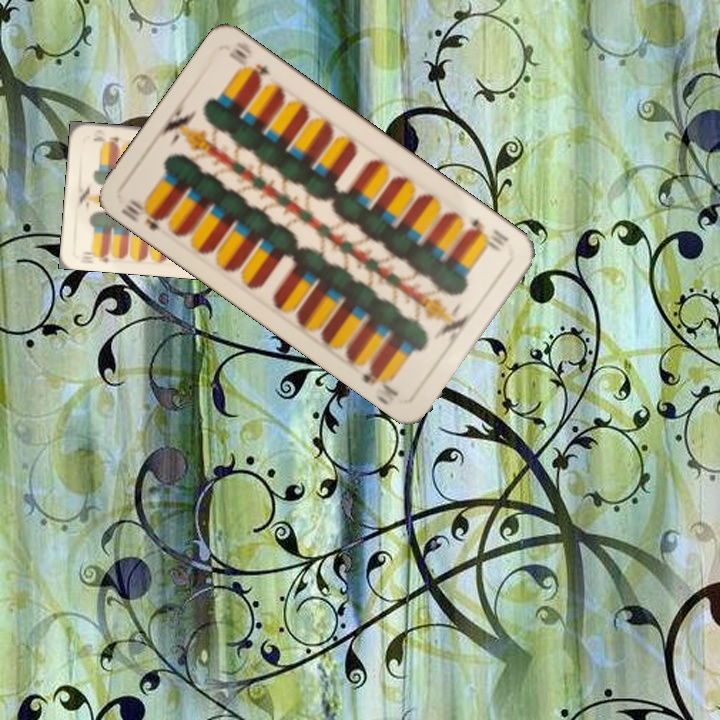E10: (117, 194, 169, 234), (463, 215, 512, 254), (79, 247, 111, 265)
